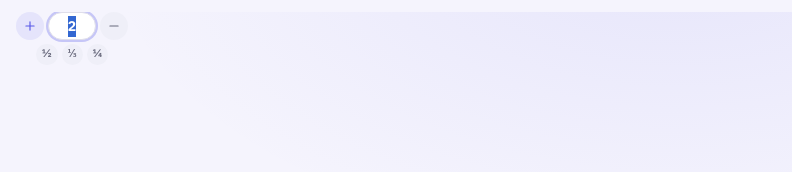
scanning while the quantity field is focused › a mistyped letter can never delete the line
Replace the text in the field named "الكمية" with "abc" at {"x": 72, "y": 26}, box [48,12,96,40]
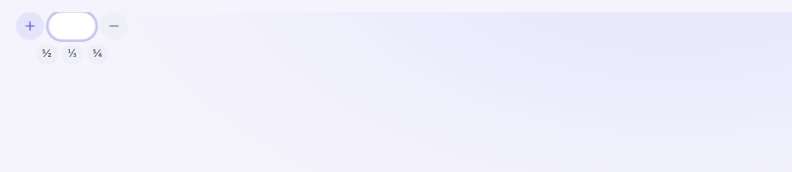
Expected: the field named "الكمية" is empty, [48,12,96,40]
